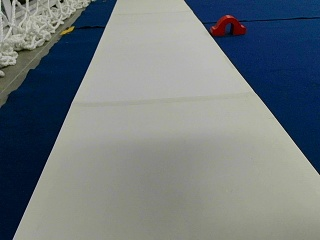bridge: (211, 15, 245, 34)
